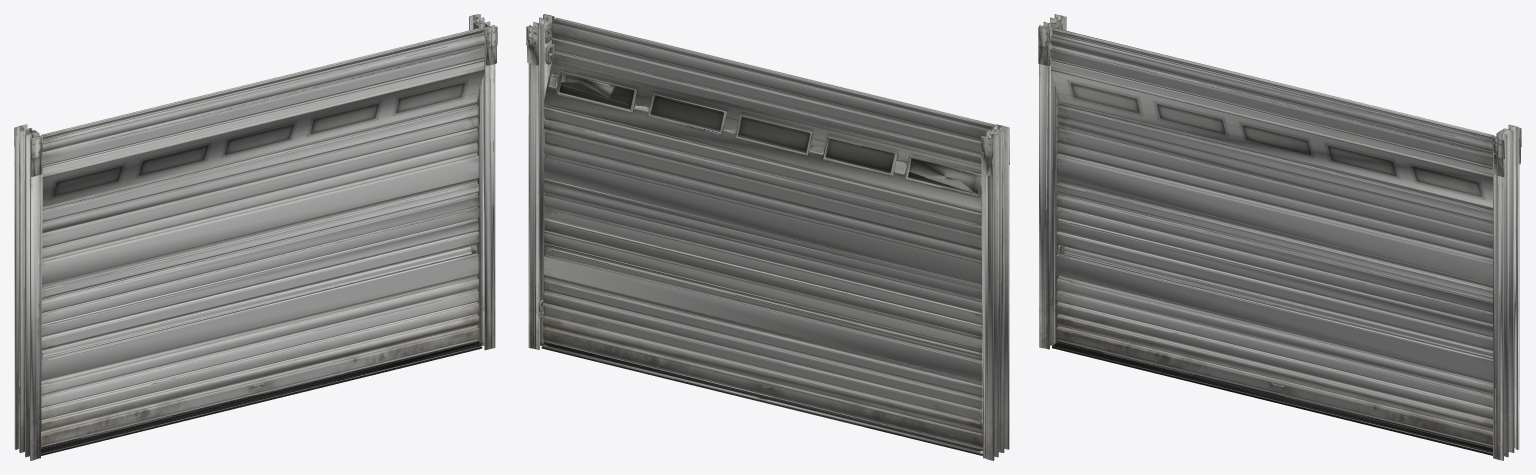
Rendered from nosto_ovi_meshy.glb.
3 views of the same model, side by side, from view 1: azimuth 30°, elevation 25°; view 2: azimuth 150°, elevation 25°; view 3: azimuth 330°, elevation 25° (orthographic).
Size of the model in its own units: 6.05 by 4 by 0.4235.
Materials: 1 (1 with a texture image).
